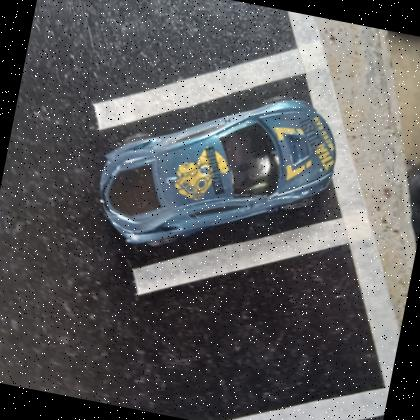Car: (98, 98, 336, 249)
